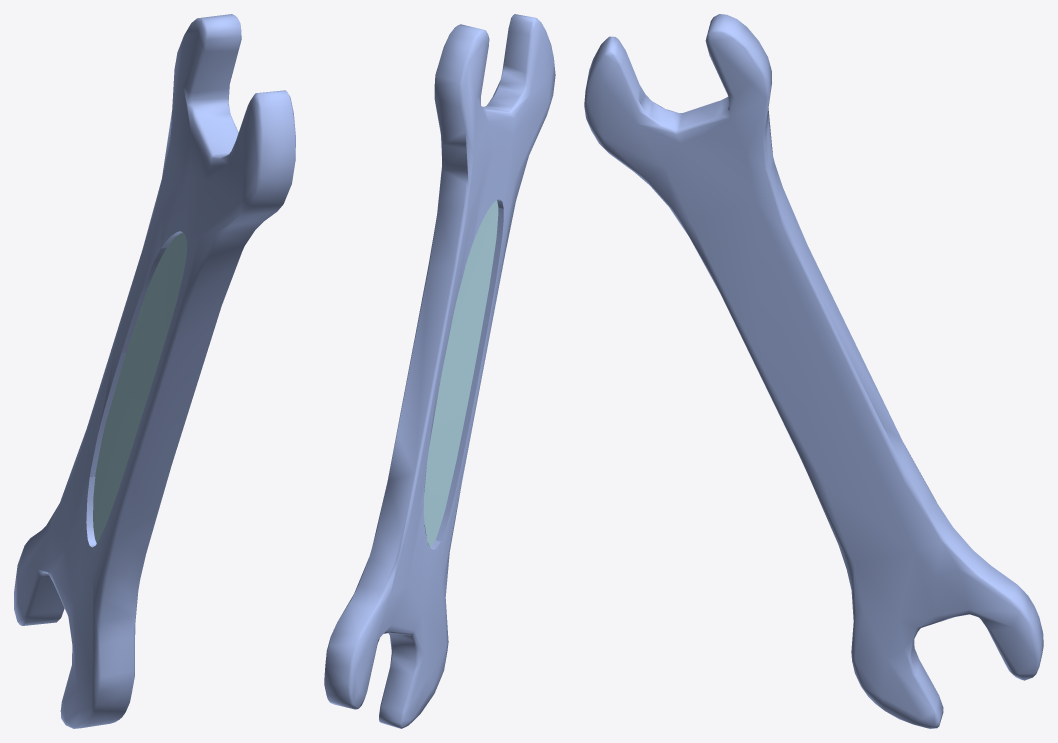
3 views of the same model, side by side, from view 1: azimuth 30°, elevation 25°; view 2: azimuth 150°, elevation 25°; view 3: azimuth 270°, elevation 25° (orthographic). The views are drawn at different scales.
Parts seen in each view (by area): view 1: s.0830, s.0831; view 2: s.0830, s.0831; view 3: s.0830.
Part boxes in pixels (x1,y1,x2,y2): s.0830: [14, 14, 295, 728]; s.0831: [86, 232, 186, 543]; s.0830: [324, 14, 555, 728]; s.0831: [424, 200, 498, 547]; s.0830: [584, 14, 1043, 728].
Bounding box in the file's own units: 4.48 × 48.45 × 28.36.
